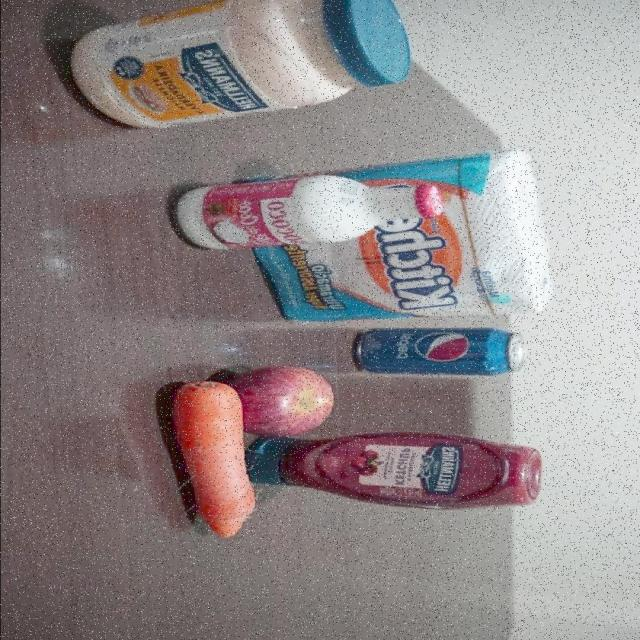Apple: (241, 368, 340, 439)
Carrot: (167, 378, 259, 543)
CoconutMilk: (168, 172, 450, 251)
Ketchup: (245, 428, 545, 514)
Mayonnaise: (65, 0, 413, 131)
Napkin: (235, 146, 558, 326)
SodaCan: (353, 327, 527, 378)
